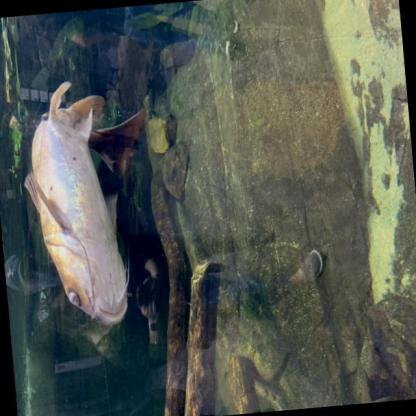fish: (15, 69, 163, 335)
